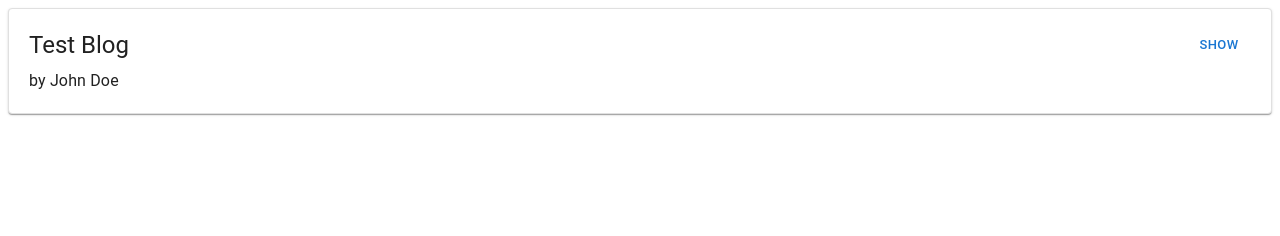
it: shows url, likes and user when show button is clicked
Expected: the link "https://example.com" is not shown
Expected: the text "5 likes" is not shown
// click Show button
Click the button "Show" at (1219, 45), box x1=1187 y1=30 x2=1251 y2=60
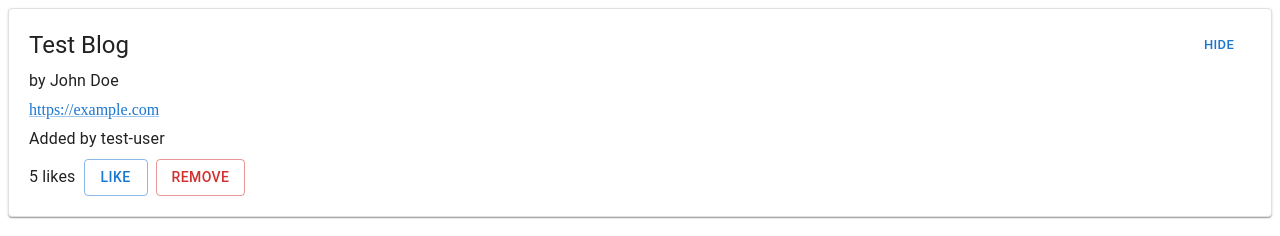
Expected: the link "https://example.com" is shown, x1=29 y1=101 x2=159 y2=119
Expected: the text "5 likes" is shown, x1=29 y1=165 x2=76 y2=189
Expected: the text "Added by test-user" is shown, x1=29 y1=129 x2=165 y2=148
